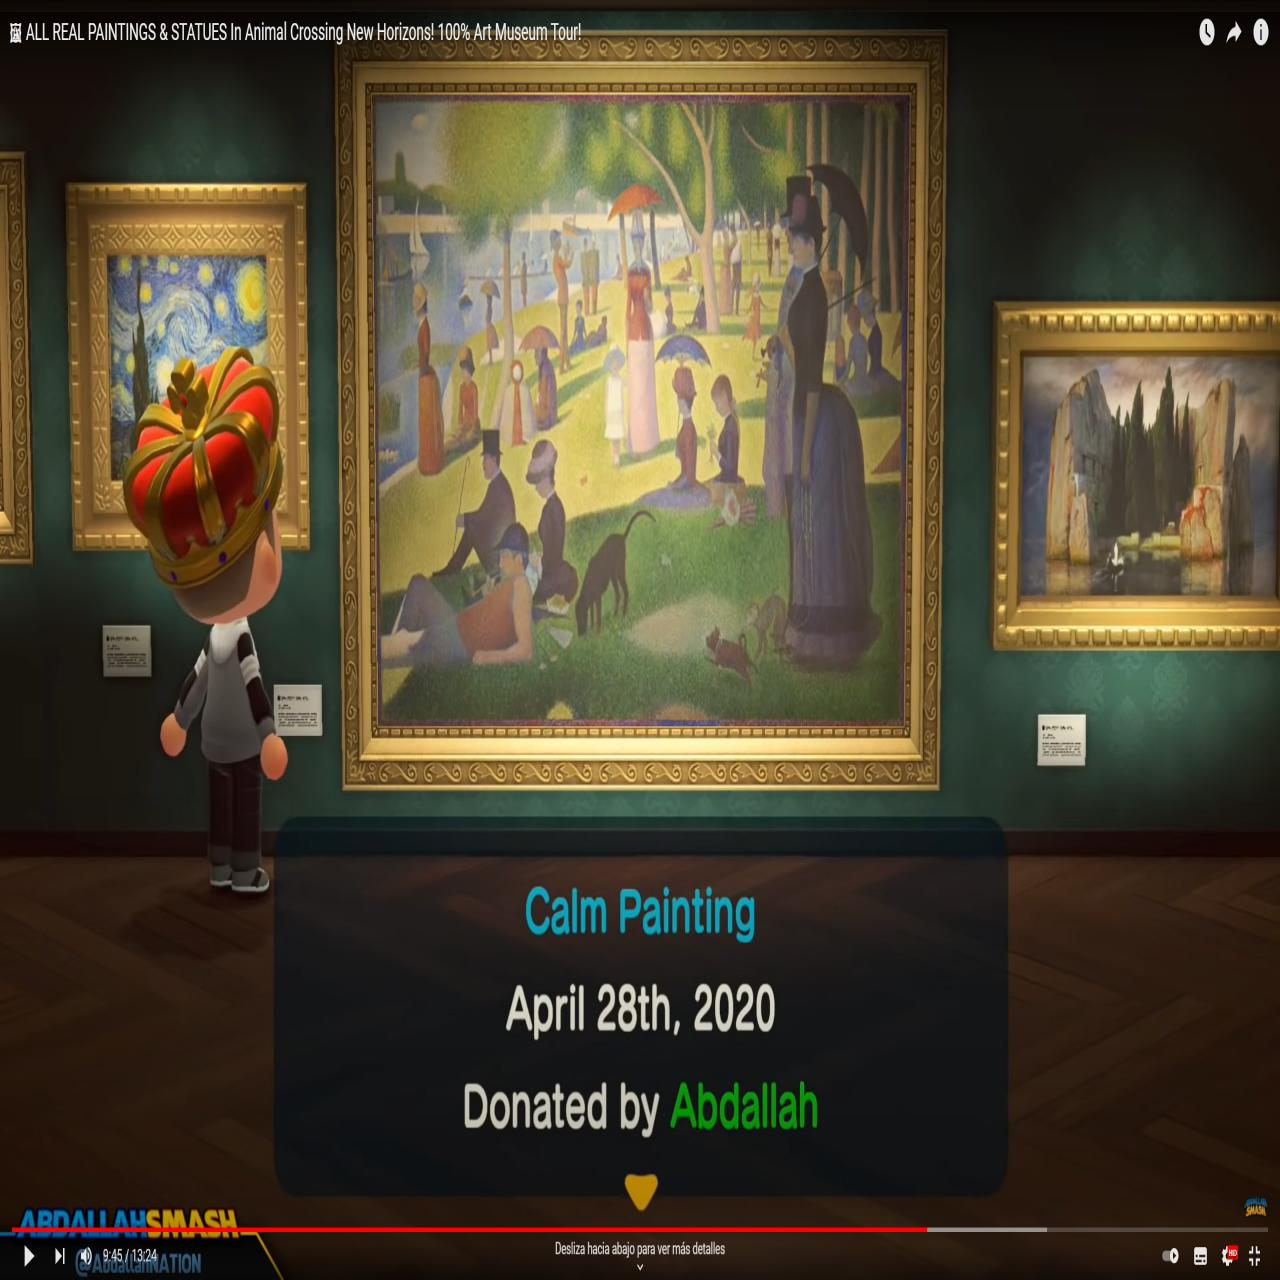IsleOfDead: (1027, 354, 1278, 599)
StarryNight: (111, 256, 268, 471)
SundayOn: (377, 100, 904, 720)
